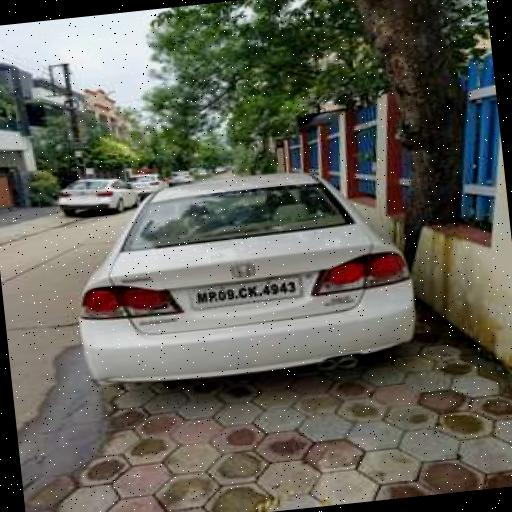license_plate`: (188, 275, 300, 306)
